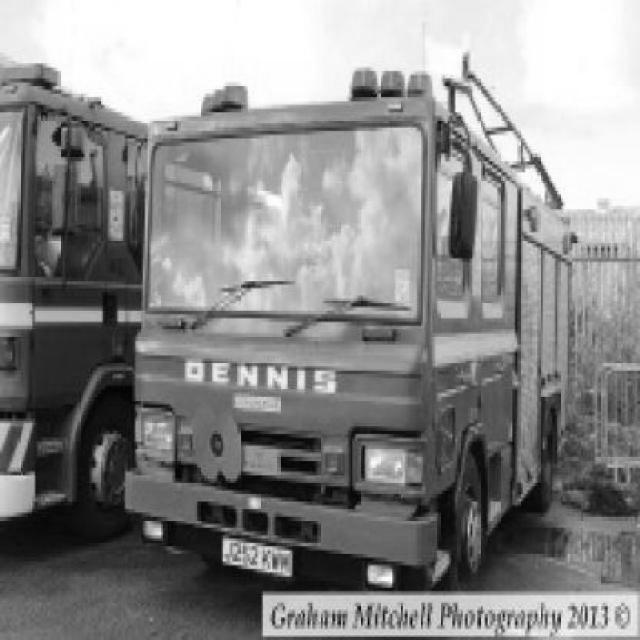Fire Truck: (124, 69, 578, 594)
